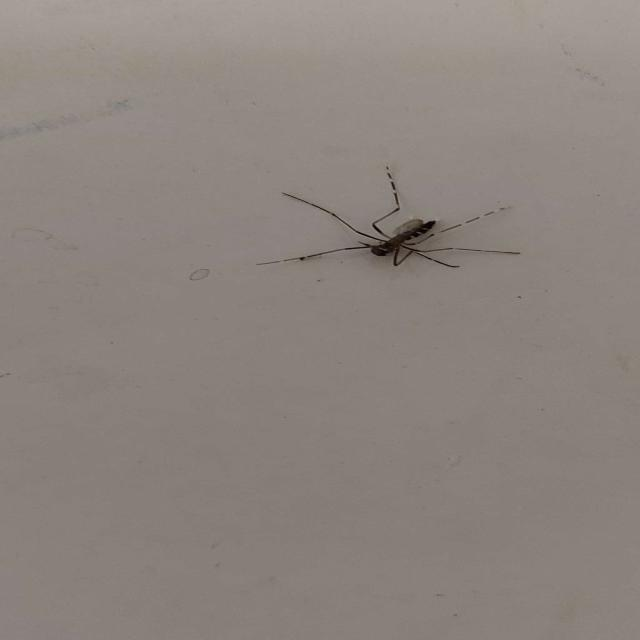albopictus: (254, 158, 528, 275)
